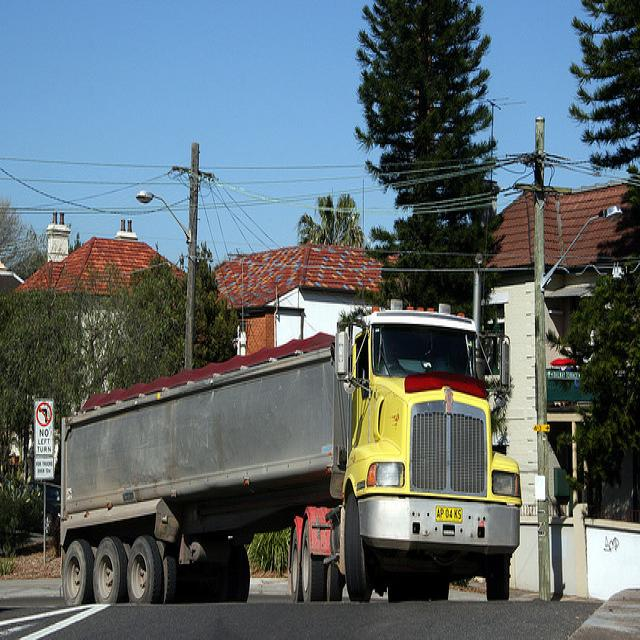Vehicle: (61, 302, 522, 608)
